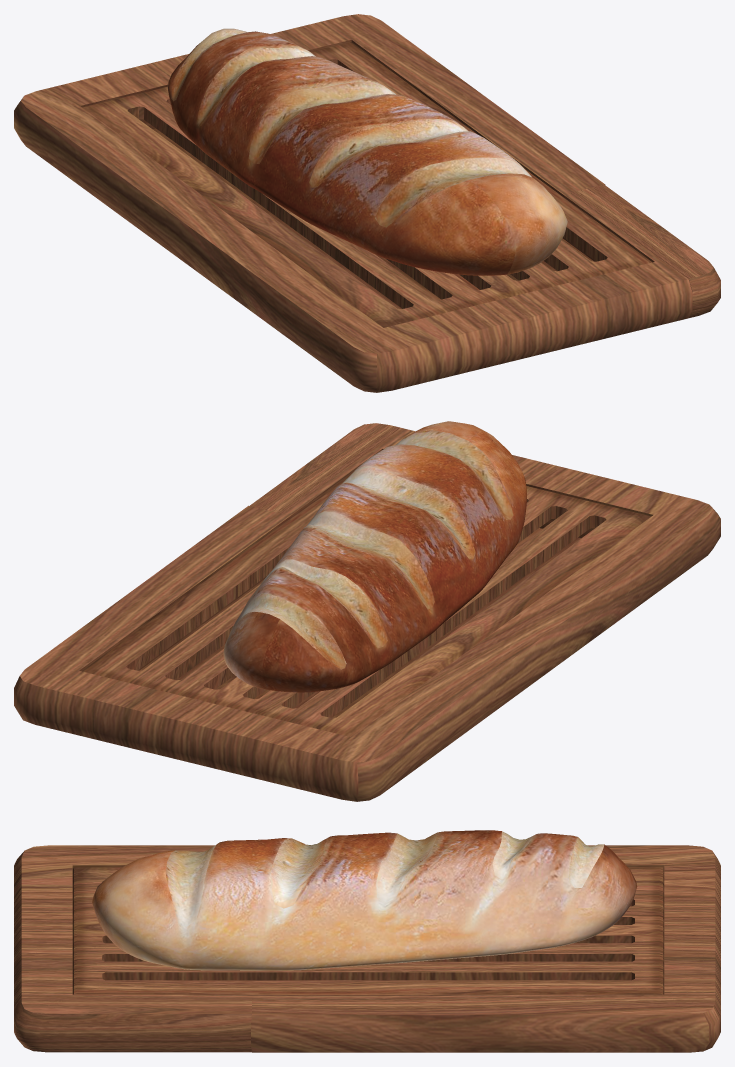
3 views of the same model, one above another, from view 1: azimuth 30°, elevation 25°; view 2: azimuth 150°, elevation 25°; view 3: azimuth 270°, elevation 25° (orthographic). The views are drawn at different scales.
Parts seen in each view (by area): view 1: cuttingboard, bread, top_of_cutting_board, knife; view 2: cuttingboard, bread, top_of_cutting_board, knife; view 3: bread, cuttingboard, top_of_cutting_board, knife.
Boxes of the visible parts, bbox=[...] form: cuttingboard: bbox=[14, 14, 692, 392]; bread: bbox=[168, 28, 567, 275]; top_of_cutting_board: bbox=[82, 42, 651, 327]; knife: bbox=[571, 184, 720, 317]; cuttingboard: bbox=[14, 428, 720, 801]; bread: bbox=[223, 421, 526, 692]; top_of_cutting_board: bbox=[82, 473, 651, 736]; knife: bbox=[250, 423, 400, 513]; bread: bbox=[92, 830, 637, 970]; cuttingboard: bbox=[14, 845, 720, 1052]; top_of_cutting_board: bbox=[72, 867, 664, 994]; knife: bbox=[14, 998, 251, 1052].
Size of the model in its own units: 34.73 by 11.09 by 60.2.
Materials: 4 (4 with a texture image).
